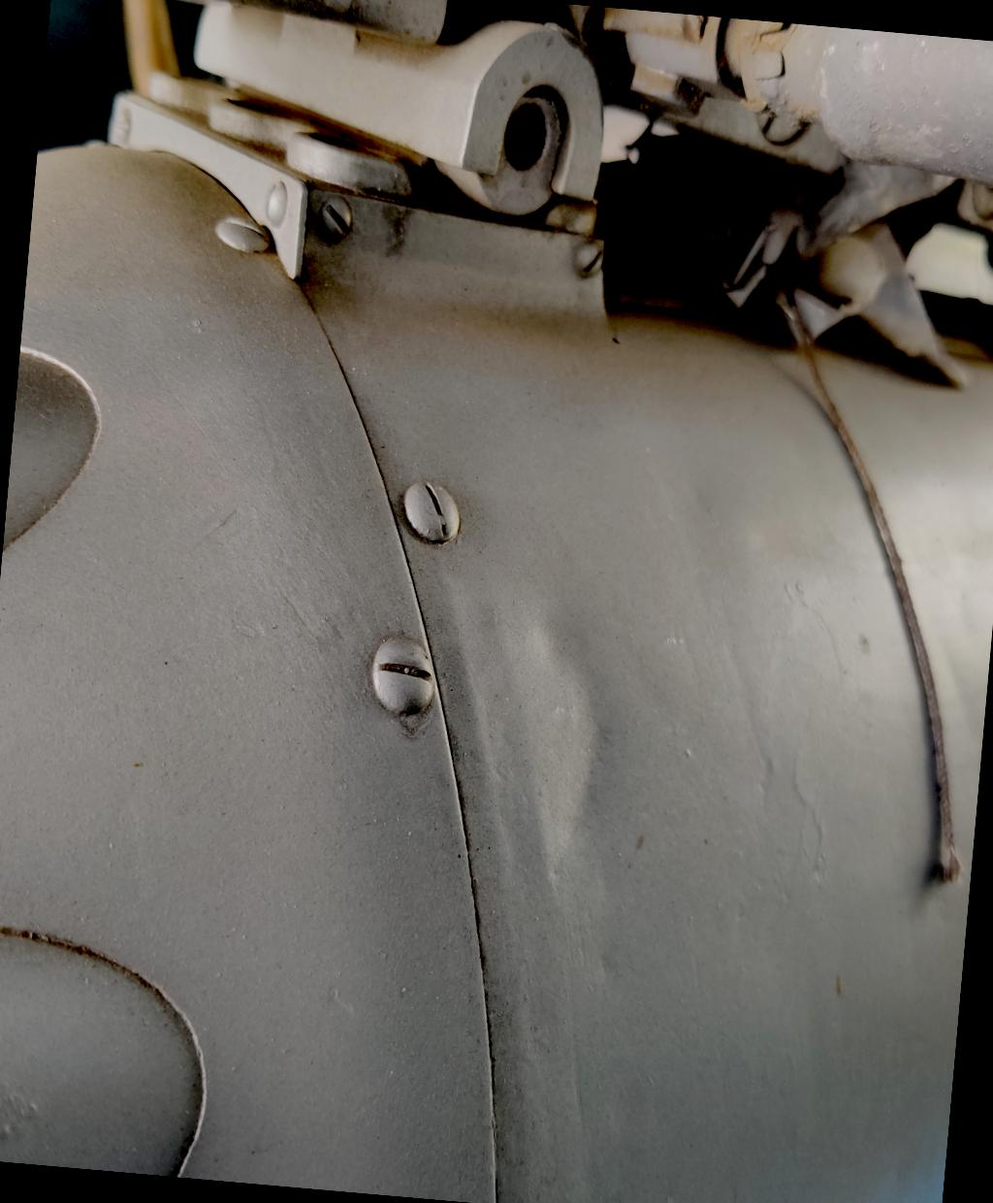dent: (448, 576, 666, 899)
